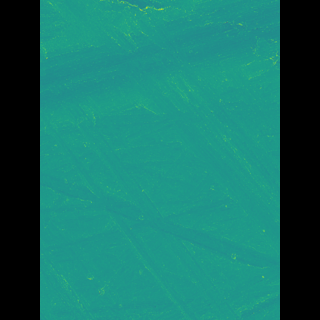Loch: (69, 0, 250, 269), (69, 0, 249, 123)
